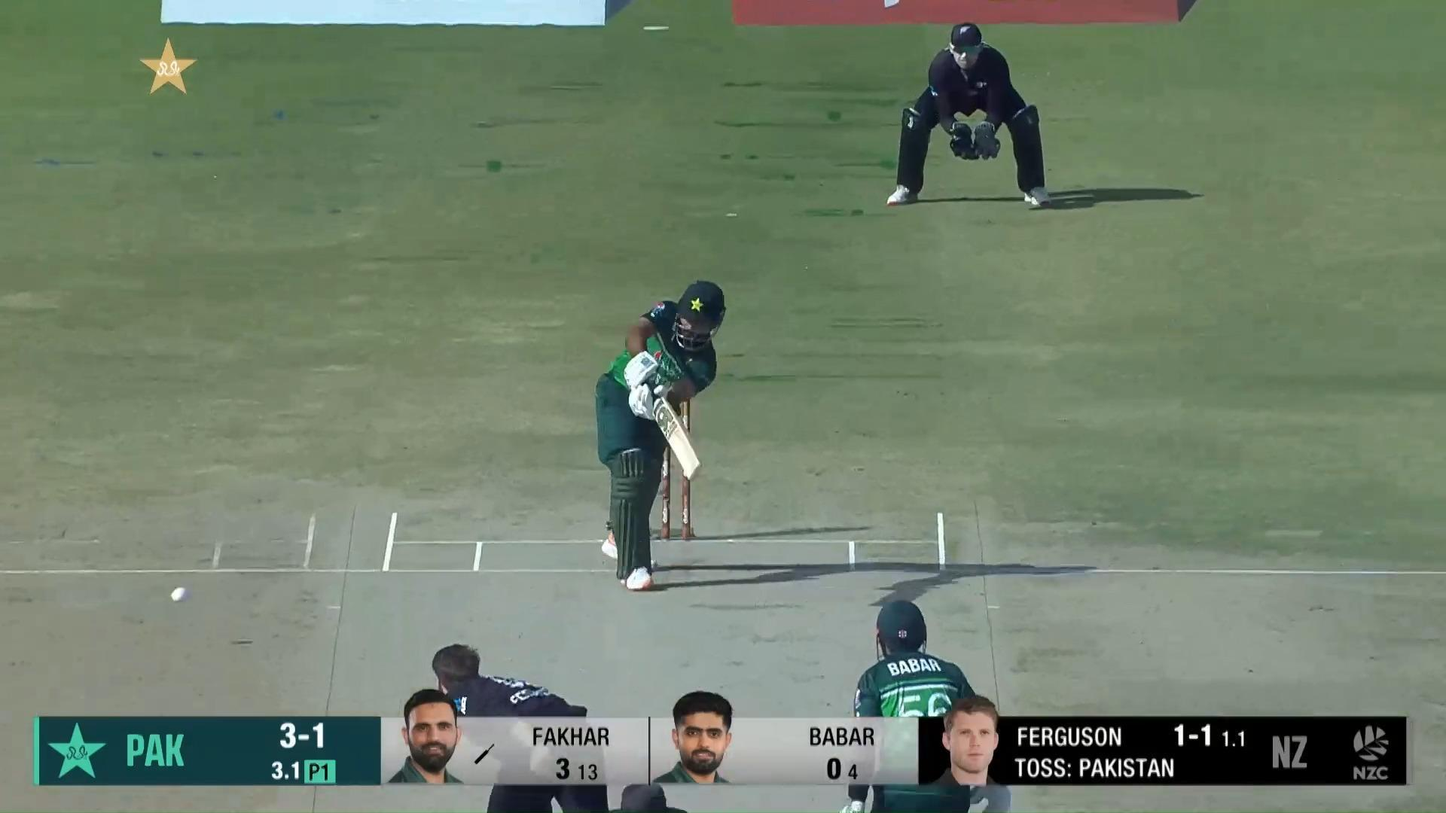BM 1: (595, 279, 727, 590)
BO: (430, 640, 610, 813)
